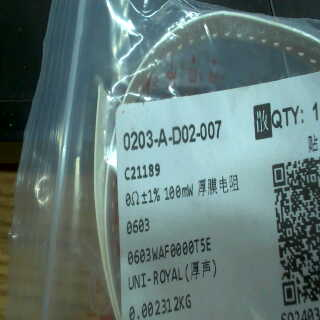0R: (124, 179, 196, 235)
